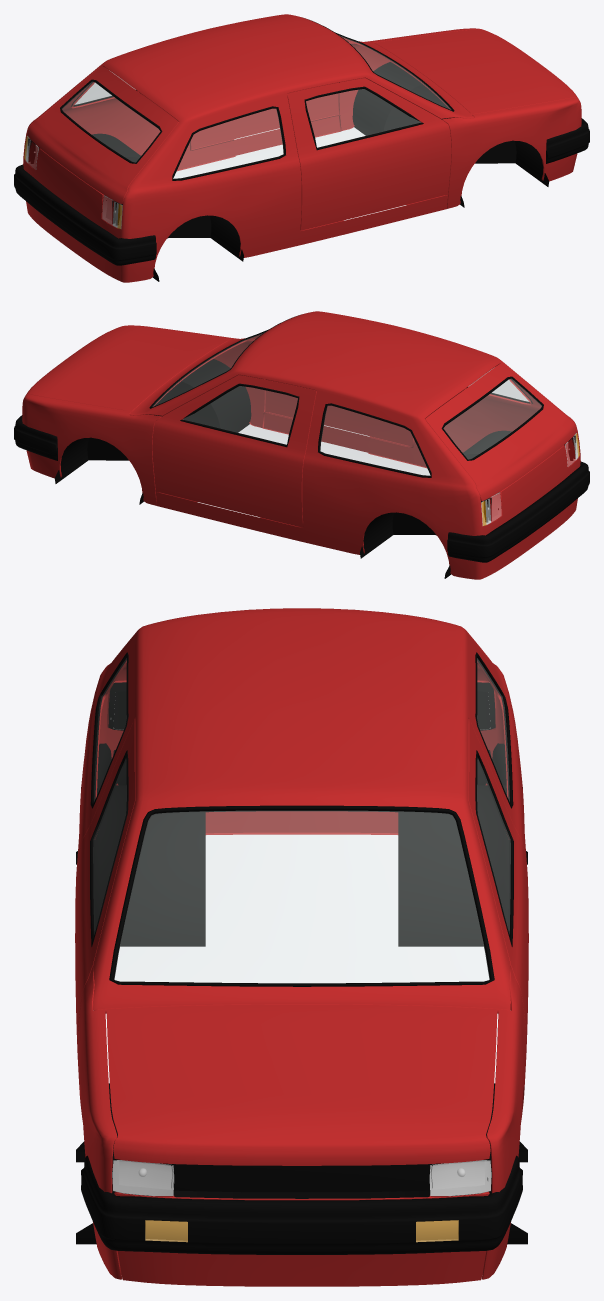
Rendered from caipora-molde_lod2.glb.
3 views of the same model, one above another, from view 1: azimuth 30°, elevation 25°; view 2: azimuth 150°, elevation 25°; view 3: azimuth 270°, elevation 25° (orthographic). The views are drawn at different scales.
Visible parts, largest first — view 1: body, door_fr, hood, trunk, fender_front_right, glass_door_rr, glass_door_fr, glass_rear, bumper_rear, door_fl, glass_windshield, fender_front_left (+3 smaller); view 2: body, door_fl, hood, trunk, fender_front_left, glass_door_rl, glass_door_fl, glass_rear, bumper_rear, door_fr, glass_windshield, fender_front_right (+3 smaller); view 3: body, glass_windshield, hood, bumper_front, grille, fender_front_right, fender_front_left, door_fl, door_fr, glass_door_fl, glass_door_fr, glass_door_rl (+4 smaller).
Part boxes in pixels (x1,y1,x2,y2): body: (23,14,549,282); door_fr: (287,78,451,230); hood: (374,29,578,114); trunk: (27,66,178,204); fender_front_right: (442,97,581,208); glass_door_rr: (172,106,285,180); glass_door_fr: (304,86,423,150); glass_rear: (60,79,162,163); bumper_rear: (14,164,156,265); door_fl: (191,82,339,150); glass_windshield: (305,18,454,111); fender_front_left: (339,28,483,130); body: (54,311,580,579); door_fl: (152,375,316,527); hood: (25,326,229,411); trunk: (425,363,576,501); fender_front_left: (22,394,161,505); glass_door_rl: (318,403,431,477); glass_door_fl: (180,383,299,447); glass_rear: (441,376,543,460); bumper_rear: (447,461,589,562); door_fr: (264,379,412,447); glass_windshield: (149,315,298,408); fender_front_right: (120,325,264,427); body: (76,608,527,1286); glass_windshield: (109,805,494,986); hood: (106,1004,497,1165); bumper_front: (81,1155,522,1254); grille: (174,1164,430,1198); fender_front_right: (77,966,121,1279); fender_front_left: (482,966,526,1279); door_fl: (468,719,528,1059); door_fr: (75,719,135,1059); glass_door_fl: (475,750,513,946); glass_door_fr: (90,750,128,946); glass_door_rl: (475,652,513,808).
Size of the model in its own units: 3.86 by 1.17 by 1.55.
Materials: 9 (1 with a texture image).
